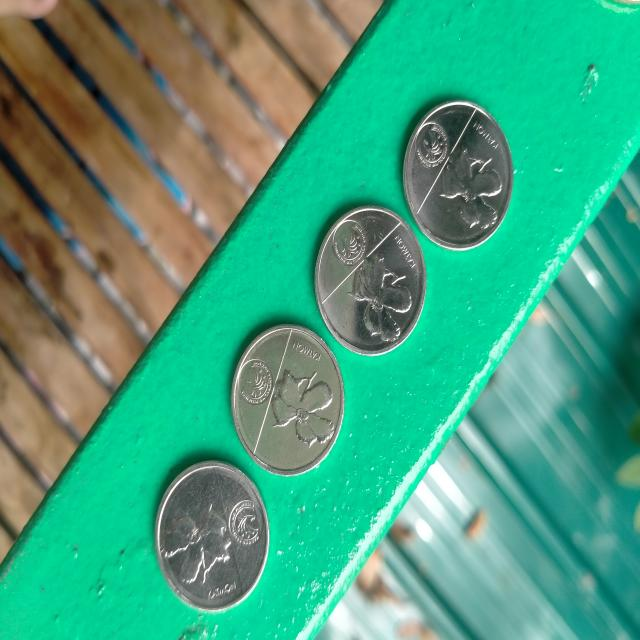25Cent_New_Back: (235, 344, 336, 456), (414, 118, 504, 232)
